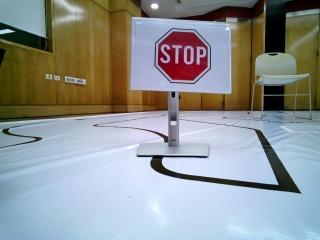stop: (133, 24, 229, 93)
